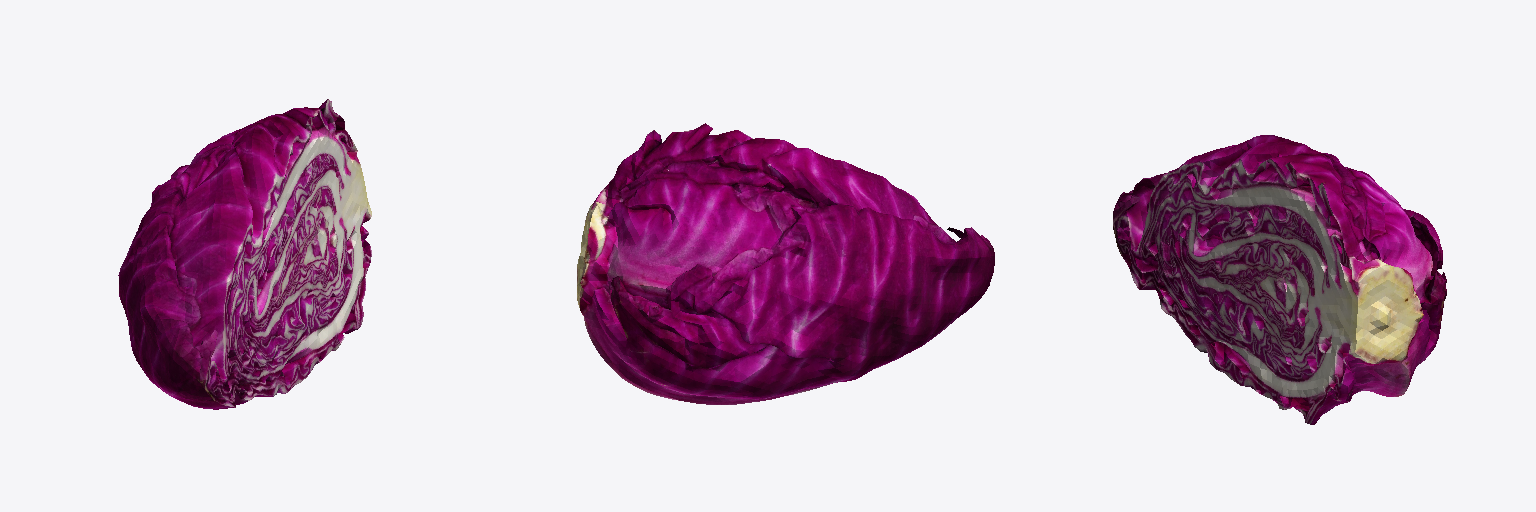
3 renders of one model, left to right at view 1: azimuth 30°, elevation 25°; view 2: azimuth 150°, elevation 25°; view 3: azimuth 270°, elevation 25°, orthographic.
Visible parts, largest first — view 1: Red_pointed_cabbage_half; view 2: Red_pointed_cabbage_half; view 3: Red_pointed_cabbage_half.
Boxes of the visible parts, <box> form: Red_pointed_cabbage_half: <box>118,99,371,409</box>; Red_pointed_cabbage_half: <box>577,123,994,404</box>; Red_pointed_cabbage_half: <box>1113,135,1446,424</box>.
Size of the model in its own units: 2.54 by 1.92 by 2.39.
1 materials, 1 textured.